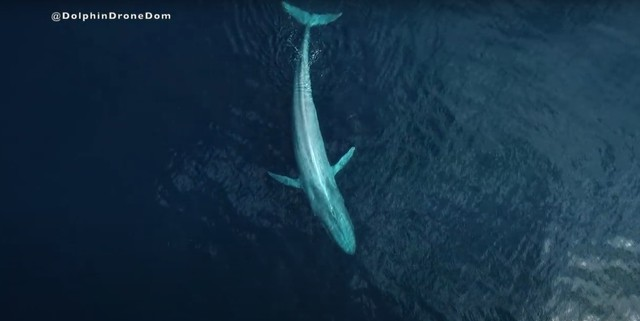whale: (260, 1, 372, 263)
